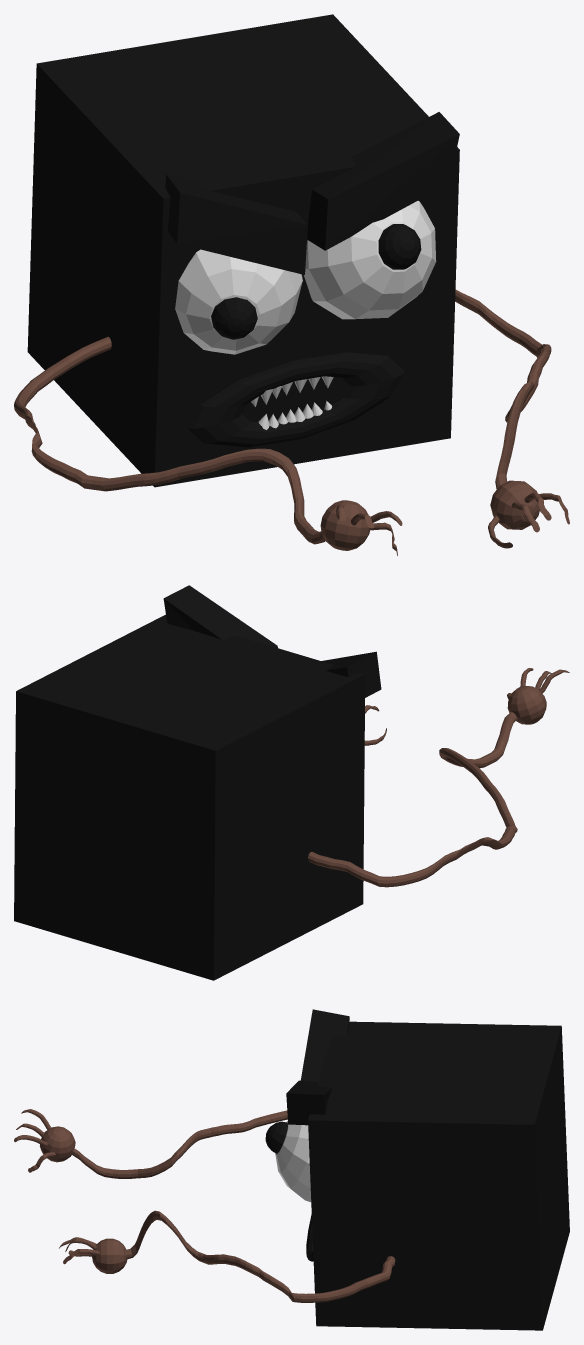
3 renders of one model, top to bottom at view 1: azimuth 30°, elevation 25°; view 2: azimuth 150°, elevation 25°; view 3: azimuth 270°, elevation 25°, orthographic. The views are drawn at different scales.
Parts seen in each view (by area): view 1: node_MeshObject-2122254336-PolyPaper21; view 2: node_MeshObject-2122254336-PolyPaper21; view 3: node_MeshObject-2122254336-PolyPaper21.
Part boxes in pixels (x1,y1,x2,y2): node_MeshObject-2122254336-PolyPaper21: (14, 14, 569, 555); node_MeshObject-2122254336-PolyPaper21: (14, 585, 569, 980); node_MeshObject-2122254336-PolyPaper21: (14, 1009, 569, 1330).
Size of the model in its own units: 1.74 by 1.05 by 2.31.
